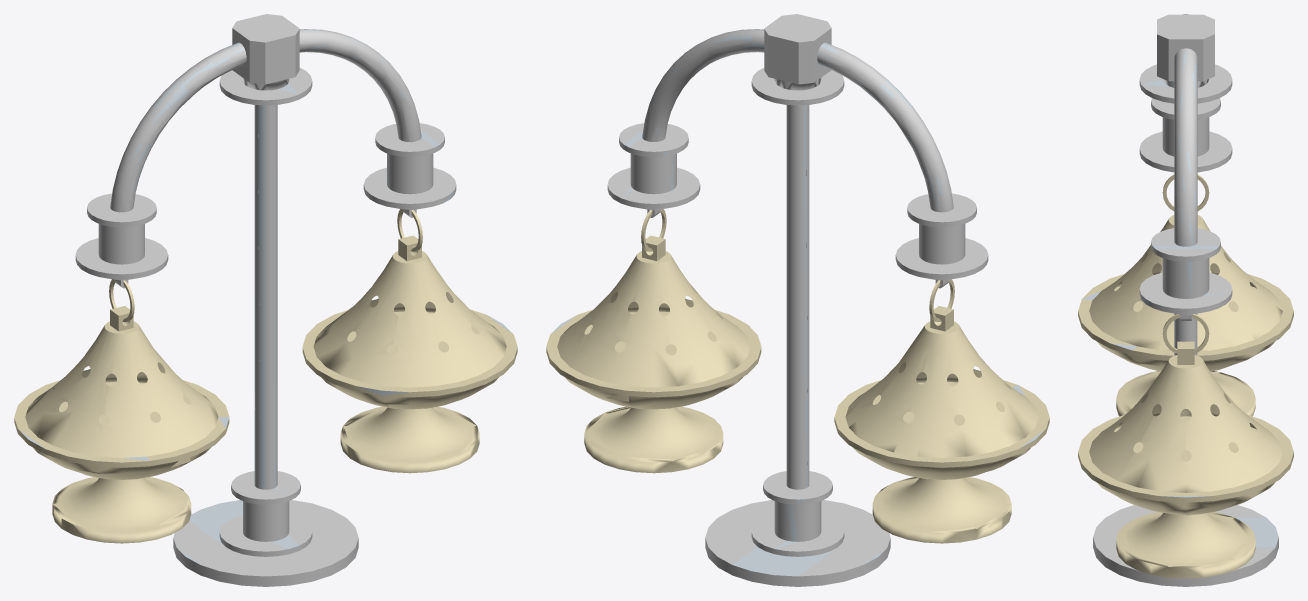
The model's file is INCENSARIO-DOBLE.glb.
3 renders of one model, left to right at view 1: azimuth 30°, elevation 25°; view 2: azimuth 150°, elevation 25°; view 3: azimuth 270°, elevation 25°, orthographic.
Parts seen in each view (by area): view 1: SketchUp, SketchUp.012, SketchUp.005; view 2: SketchUp, SketchUp.012, SketchUp.005; view 3: SketchUp, SketchUp.012, SketchUp.005.
Part boxes in pixels (x1,y1,x2,y2): SketchUp: (14, 209, 517, 543); SketchUp.012: (75, 14, 456, 586); SketchUp.005: (19, 29, 513, 563); SketchUp: (546, 209, 1049, 543); SketchUp.012: (607, 14, 988, 586); SketchUp.005: (550, 29, 1044, 576); SketchUp: (1078, 174, 1293, 578); SketchUp.012: (1093, 14, 1278, 586); SketchUp.005: (1082, 49, 1278, 547).
Size of the model in its own units: 0.601 by 0.6286 by 0.236.
